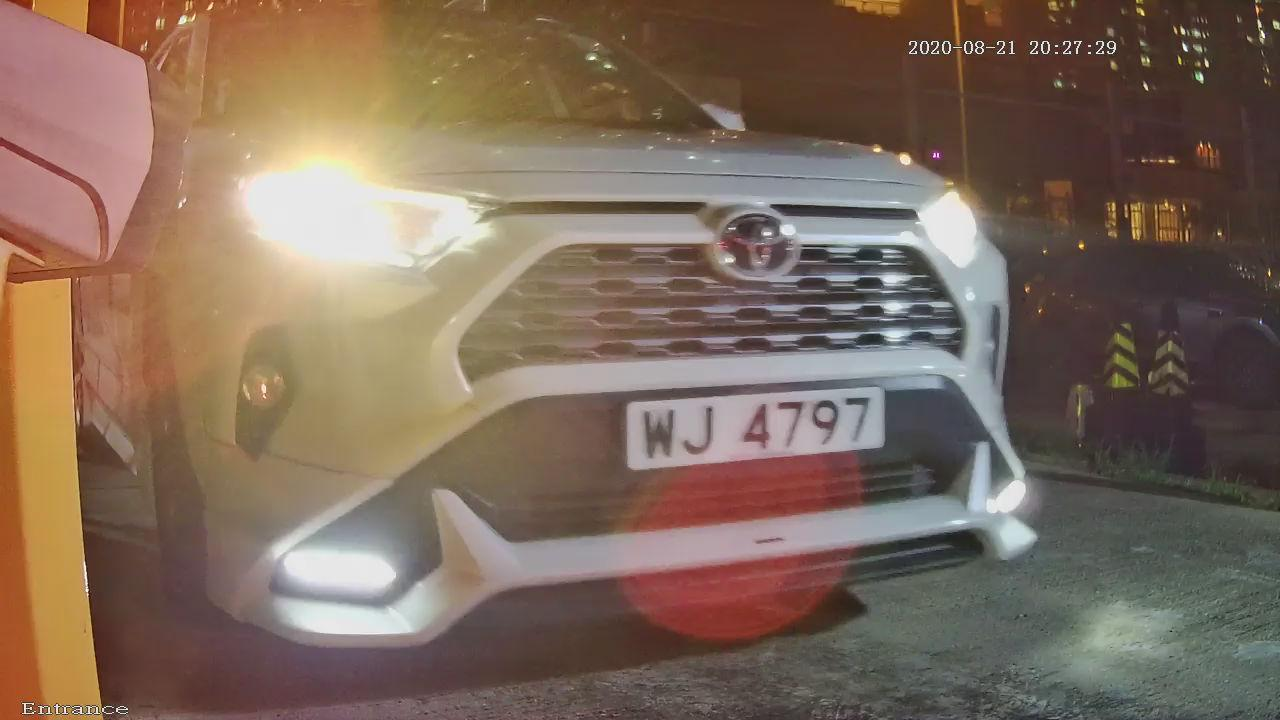Car: (46, 20, 1121, 698)
License Plate: (618, 373, 898, 486)
